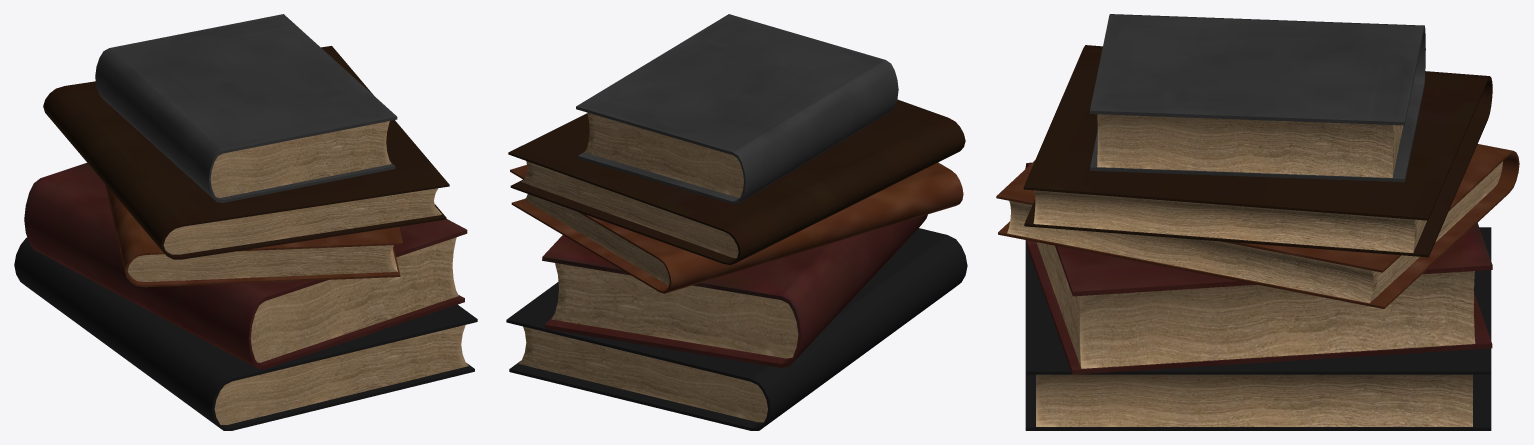
The model's file is book_stack.glb.
3 views of the same model, side by side, from view 1: azimuth 30°, elevation 25°; view 2: azimuth 150°, elevation 25°; view 3: azimuth 270°, elevation 25° (orthographic). The views are drawn at different scales.
Parts seen in each view (by area): view 1: cover004, cover003, cover001, cover, Paper001, Paper, Paper004, Paper003, Paper002, cover002; view 2: cover004, cover003, cover, cover001, Paper001, cover002, Paper, Paper004, Paper003, Paper002; view 3: cover004, Paper001, cover003, Paper, Paper004, cover, Paper003, Paper002, cover001, cover002.
Boxes of the visible parts, box(x1,y1,x2,y2) form: cover004: box(95, 14, 397, 202); cover003: box(43, 46, 449, 259); cover001: box(24, 163, 467, 369); cover: box(14, 237, 477, 430); Paper001: box(250, 237, 458, 362); Paper: box(214, 325, 468, 424); Paper004: box(210, 121, 391, 197); Paper003: box(163, 188, 441, 254); Paper002: box(127, 245, 397, 281); cover002: box(105, 184, 403, 287); cover004: box(576, 14, 898, 204); cover003: box(508, 99, 965, 265); cover: box(506, 228, 967, 430); cover001: box(542, 214, 927, 367); Paper001: box(551, 263, 798, 358); cover002: box(510, 162, 963, 293); Paper: box(518, 326, 767, 422); Paper004: box(585, 112, 743, 197); Paper003: box(521, 161, 738, 258); Paper002: box(524, 194, 669, 285); cover004: box(1090, 14, 1425, 182); Paper001: box(1037, 242, 1475, 368); cover003: box(1023, 45, 1492, 257); Paper: box(1036, 374, 1472, 426); Paper004: box(1097, 114, 1403, 177); cover: box(1025, 227, 1491, 430); Paper003: box(1033, 190, 1426, 252); Paper002: box(1007, 161, 1502, 303); cover001: box(1025, 162, 1492, 374); cover002: box(996, 144, 1519, 308).
Bounding box in the file's own units: 1.82 × 1.23 × 2.
2 materials, 2 textured.
